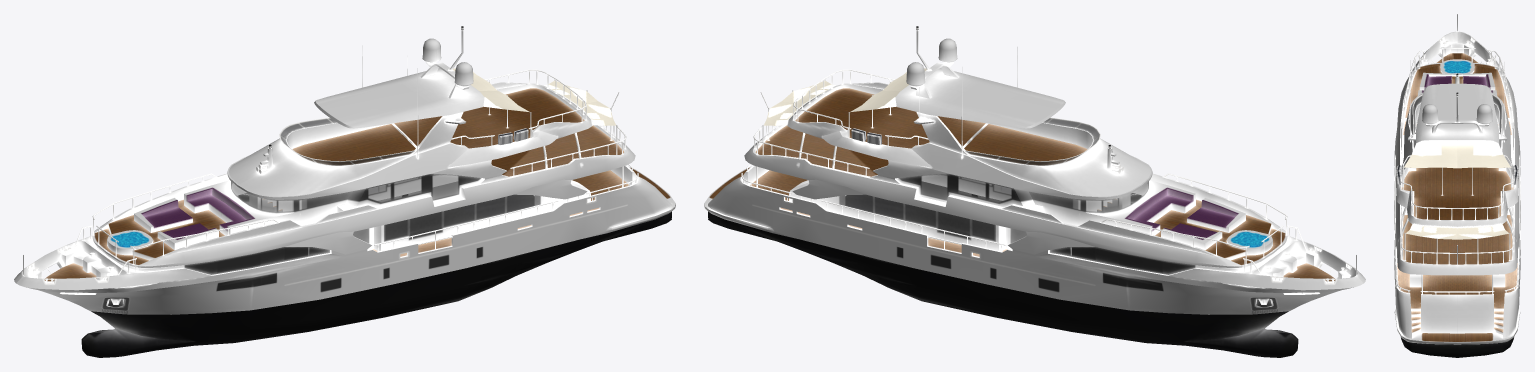
3 views of the same model, side by side, from view 1: azimuth 30°, elevation 25°; view 2: azimuth 150°, elevation 25°; view 3: azimuth 270°, elevation 25° (orthographic). The views are drawn at different scales.
Visible parts, largest first — view 1: korpus1; view 2: korpus1; view 3: korpus1.
Boxes of the visible parts, x1,y1,x2,y2 form: korpus1: (14, 26, 675, 357); korpus1: (704, 26, 1365, 357); korpus1: (1394, 14, 1520, 357).
Bounding box in the file's own units: 40.33 × 15.65 × 8.21.
Materials: 1 (1 with a texture image).
